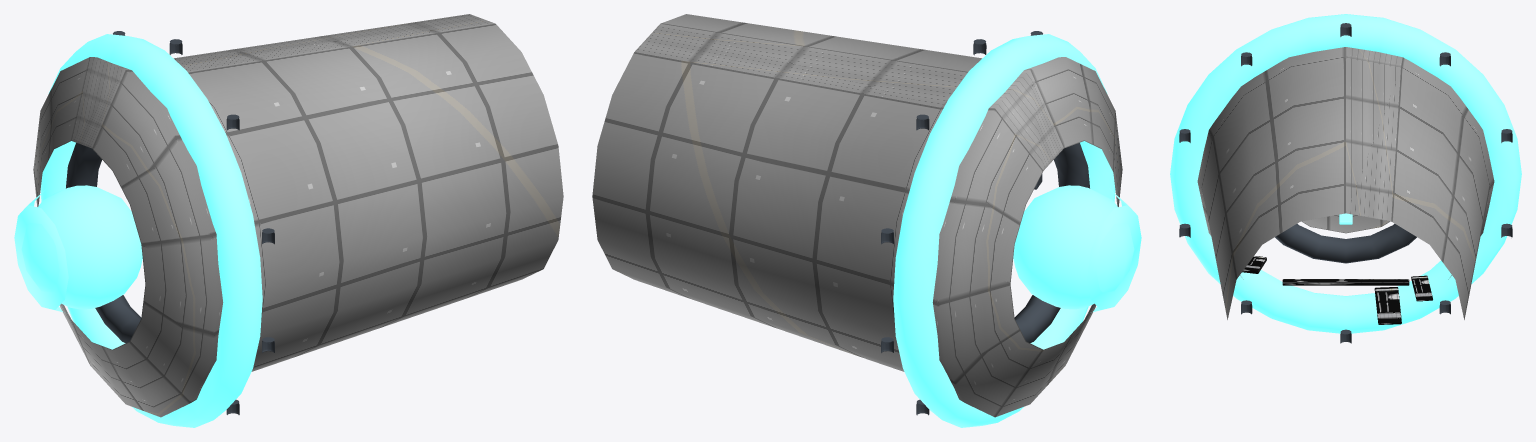
The model's file is _engine_plasma_ring_elite_export.glb.
3 renders of one model, left to right at view 1: azimuth 30°, elevation 25°; view 2: azimuth 150°, elevation 25°; view 3: azimuth 270°, elevation 25°, orthographic. The views are drawn at different scales.
Visible parts, largest first — view 1: LOD0_ENGINE_PLASMA_RING_MAIN, Plasma_Ring_Outer, HOOK_DRIVE_CORE, HOOK_DRIVE_FAN, HOOK_DRIVE_PLUME, engine_plasma_ring_Material_Mechanical_Merged; view 2: LOD0_ENGINE_PLASMA_RING_MAIN, Plasma_Ring_Outer, HOOK_DRIVE_CORE, HOOK_DRIVE_FAN, HOOK_DRIVE_PLUME, engine_plasma_ring_Material_Mechanical_Merged; view 3: LOD0_ENGINE_PLASMA_RING_MAIN, Plasma_Ring_Outer, HOOK_DRIVE_FAN, engine_plasma_ring_Material_Mechanical_Merged, DET_heat_discolor, DET_faction_stripe_port, DET_micro_scratch_plate.
Boxes of the visible parts, left/top/right/bottom form: LOD0_ENGINE_PLASMA_RING_MAIN: left=33, top=14, right=563, bottom=417; Plasma_Ring_Outer: left=40, top=34, right=262, bottom=427; HOOK_DRIVE_CORE: left=21, top=185, right=142, bottom=309; HOOK_DRIVE_FAN: left=66, top=143, right=141, bottom=343; HOOK_DRIVE_PLUME: left=14, top=188, right=68, bottom=311; engine_plasma_ring_Material_Mechanical_Merged: left=113, top=31, right=274, bottom=414; LOD0_ENGINE_PLASMA_RING_MAIN: left=592, top=14, right=1122, bottom=417; Plasma_Ring_Outer: left=893, top=34, right=1115, bottom=427; HOOK_DRIVE_CORE: left=1013, top=185, right=1134, bottom=309; HOOK_DRIVE_FAN: left=1014, top=143, right=1089, bottom=343; HOOK_DRIVE_PLUME: left=1087, top=188, right=1141, bottom=311; engine_plasma_ring_Material_Mechanical_Merged: left=881, top=31, right=1042, bottom=415; LOD0_ENGINE_PLASMA_RING_MAIN: left=1197, top=47, right=1494, bottom=319; Plasma_Ring_Outer: left=1170, top=14, right=1521, bottom=333; HOOK_DRIVE_FAN: left=1275, top=223, right=1416, bottom=263; engine_plasma_ring_Material_Mechanical_Merged: left=1179, top=23, right=1512, bottom=343; DET_heat_discolor: left=1374, top=287, right=1401, bottom=324; DET_faction_stripe_port: left=1282, top=279, right=1409, bottom=285; DET_micro_scratch_plate: left=1411, top=275, right=1432, bottom=301.
Bounding box in the file's own units: 2.77 × 2.08 × 2.08.
6 materials, 2 textured.
